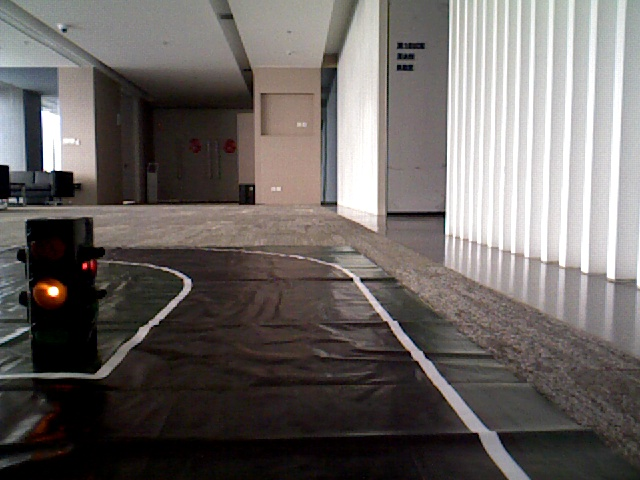yellow: (28, 226, 82, 345)
